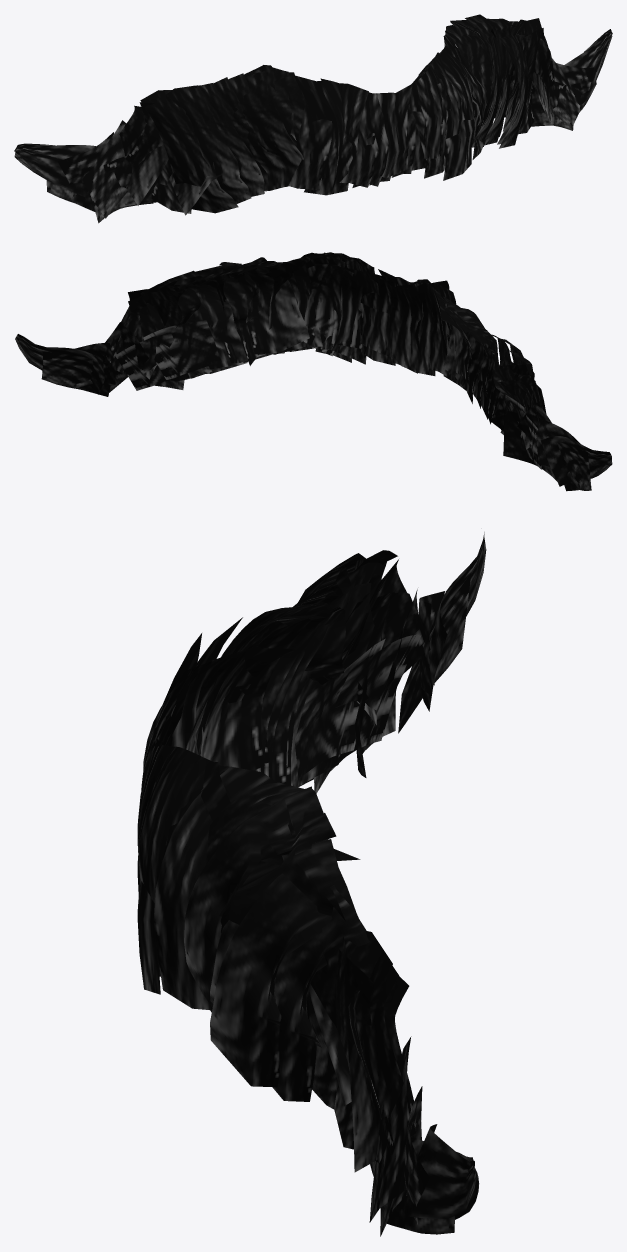
File: Yash_Moustache.fbx
3 views of the same model, one above another, from view 1: azimuth 30°, elevation 25°; view 2: azimuth 150°, elevation 25°; view 3: azimuth 270°, elevation 25° (orthographic). The views are drawn at different scales.
Visible parts, largest first — view 1: Moustache; view 2: Moustache; view 3: Moustache.
Part boxes in pixels (x1,y1,x2,y2): Moustache: [14, 14, 612, 223]; Moustache: [15, 252, 612, 491]; Moustache: [137, 532, 486, 1236].
Bounding box in the file's own units: 12.49 × 3.18 × 3.19.
1 material, 1 textured.
